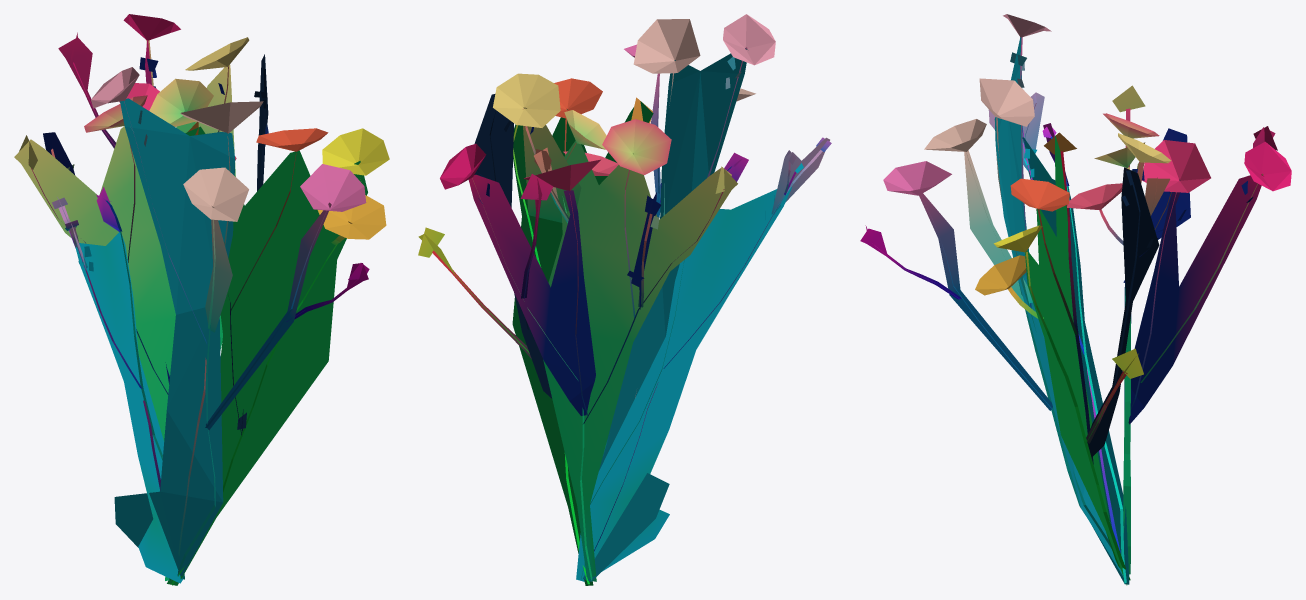
The model's file is Nordic_Coastal_Groundcover_vlqkdeaja_Mid_vlqkdeaja_VarQ_LOD0.fbx.
3 views of the same model, side by side, from view 1: azimuth 30°, elevation 25°; view 2: azimuth 150°, elevation 25°; view 3: azimuth 270°, elevation 25° (orthographic). The views are drawn at different scales.
Parts seen in each view (by area): view 1: _5e7p_VarQ_LOD1; view 2: _5e7p_VarQ_LOD1; view 3: _5e7p_VarQ_LOD1.
Part boxes in pixels (x1,y1,x2,y2): _5e7p_VarQ_LOD1: (14,14,389,585); _5e7p_VarQ_LOD1: (418,14,831,585); _5e7p_VarQ_LOD1: (860,14,1291,585).
Size of the model in its own units: 25.71 by 39.23 by 29.17.
